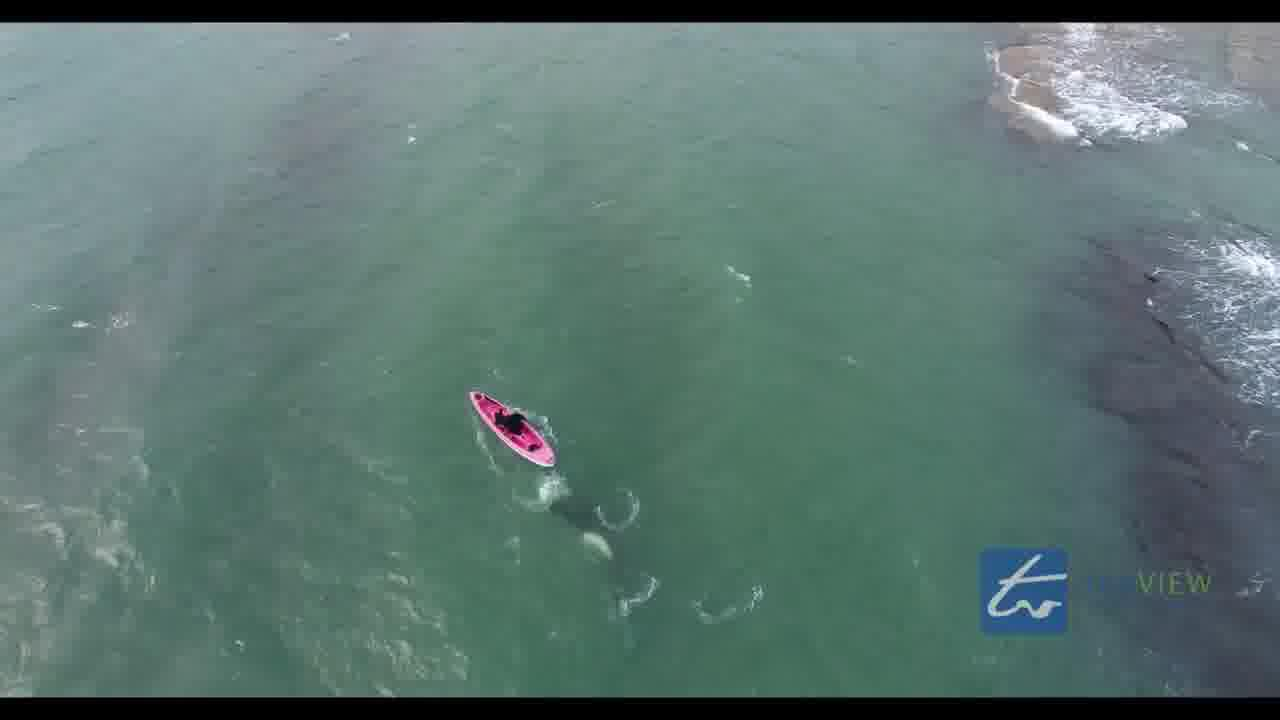swimmer: (497, 404, 530, 437)
